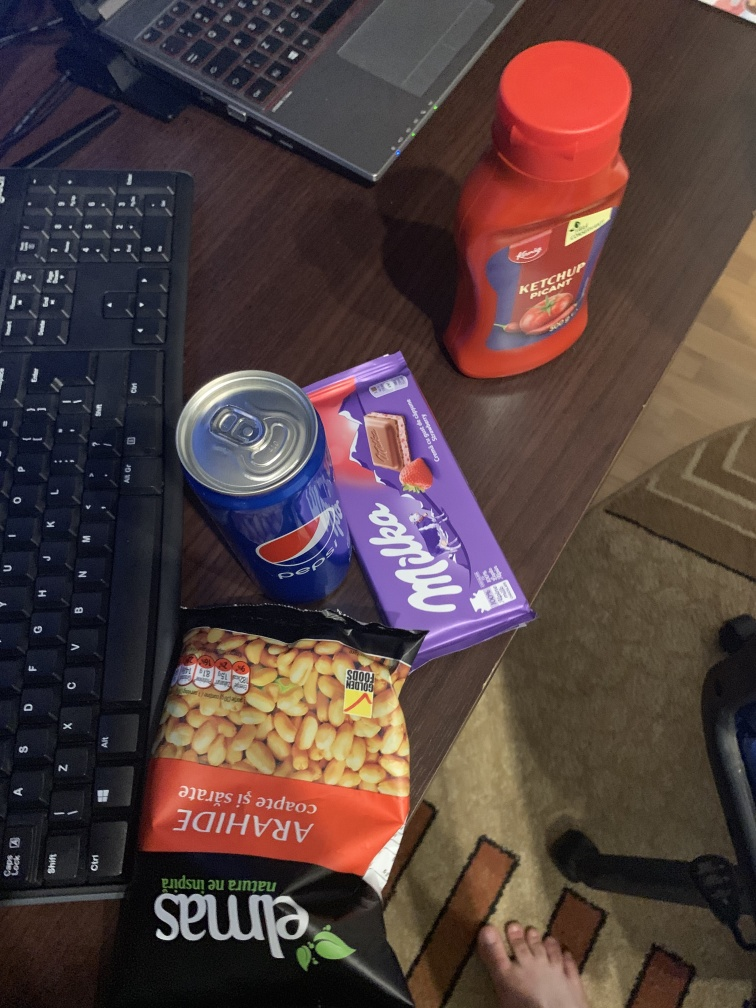ketchup: (444, 39, 632, 385)
milka: (297, 347, 537, 664)
peanuts: (121, 602, 429, 1008)
pepsi: (171, 367, 356, 600)
